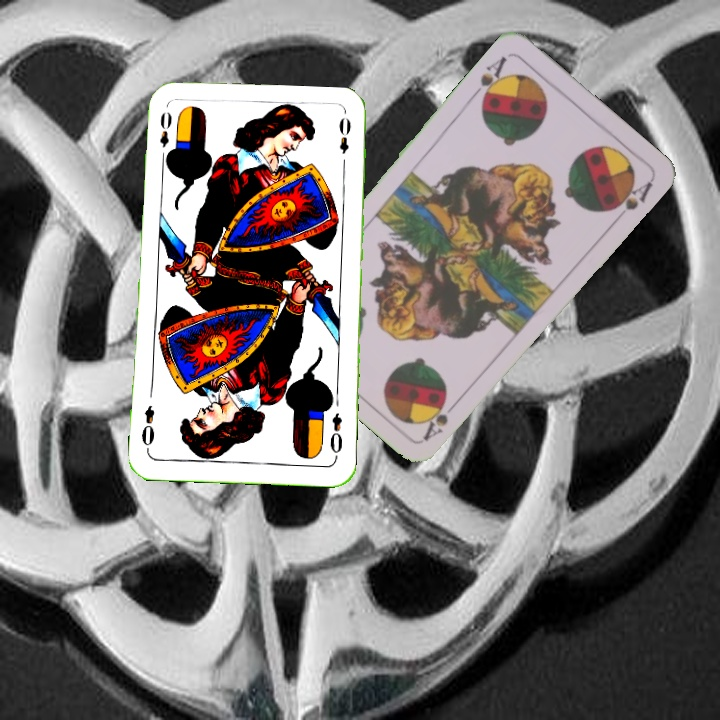EO: (156, 108, 175, 164), (326, 409, 345, 461)
SA: (467, 52, 511, 107), (419, 393, 463, 443)
